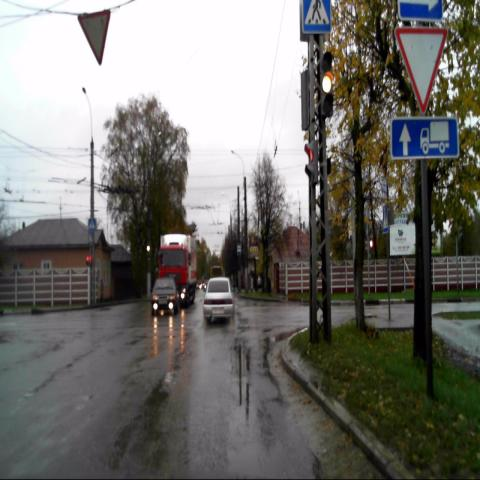2_4: (395, 26, 446, 113), (77, 10, 111, 66)
5_19_1: (88, 217, 96, 232)
6_15_1: (391, 117, 458, 160)
